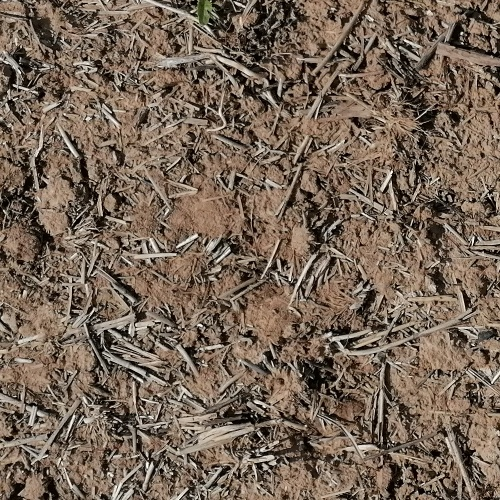beet: (195, 0, 215, 25)
